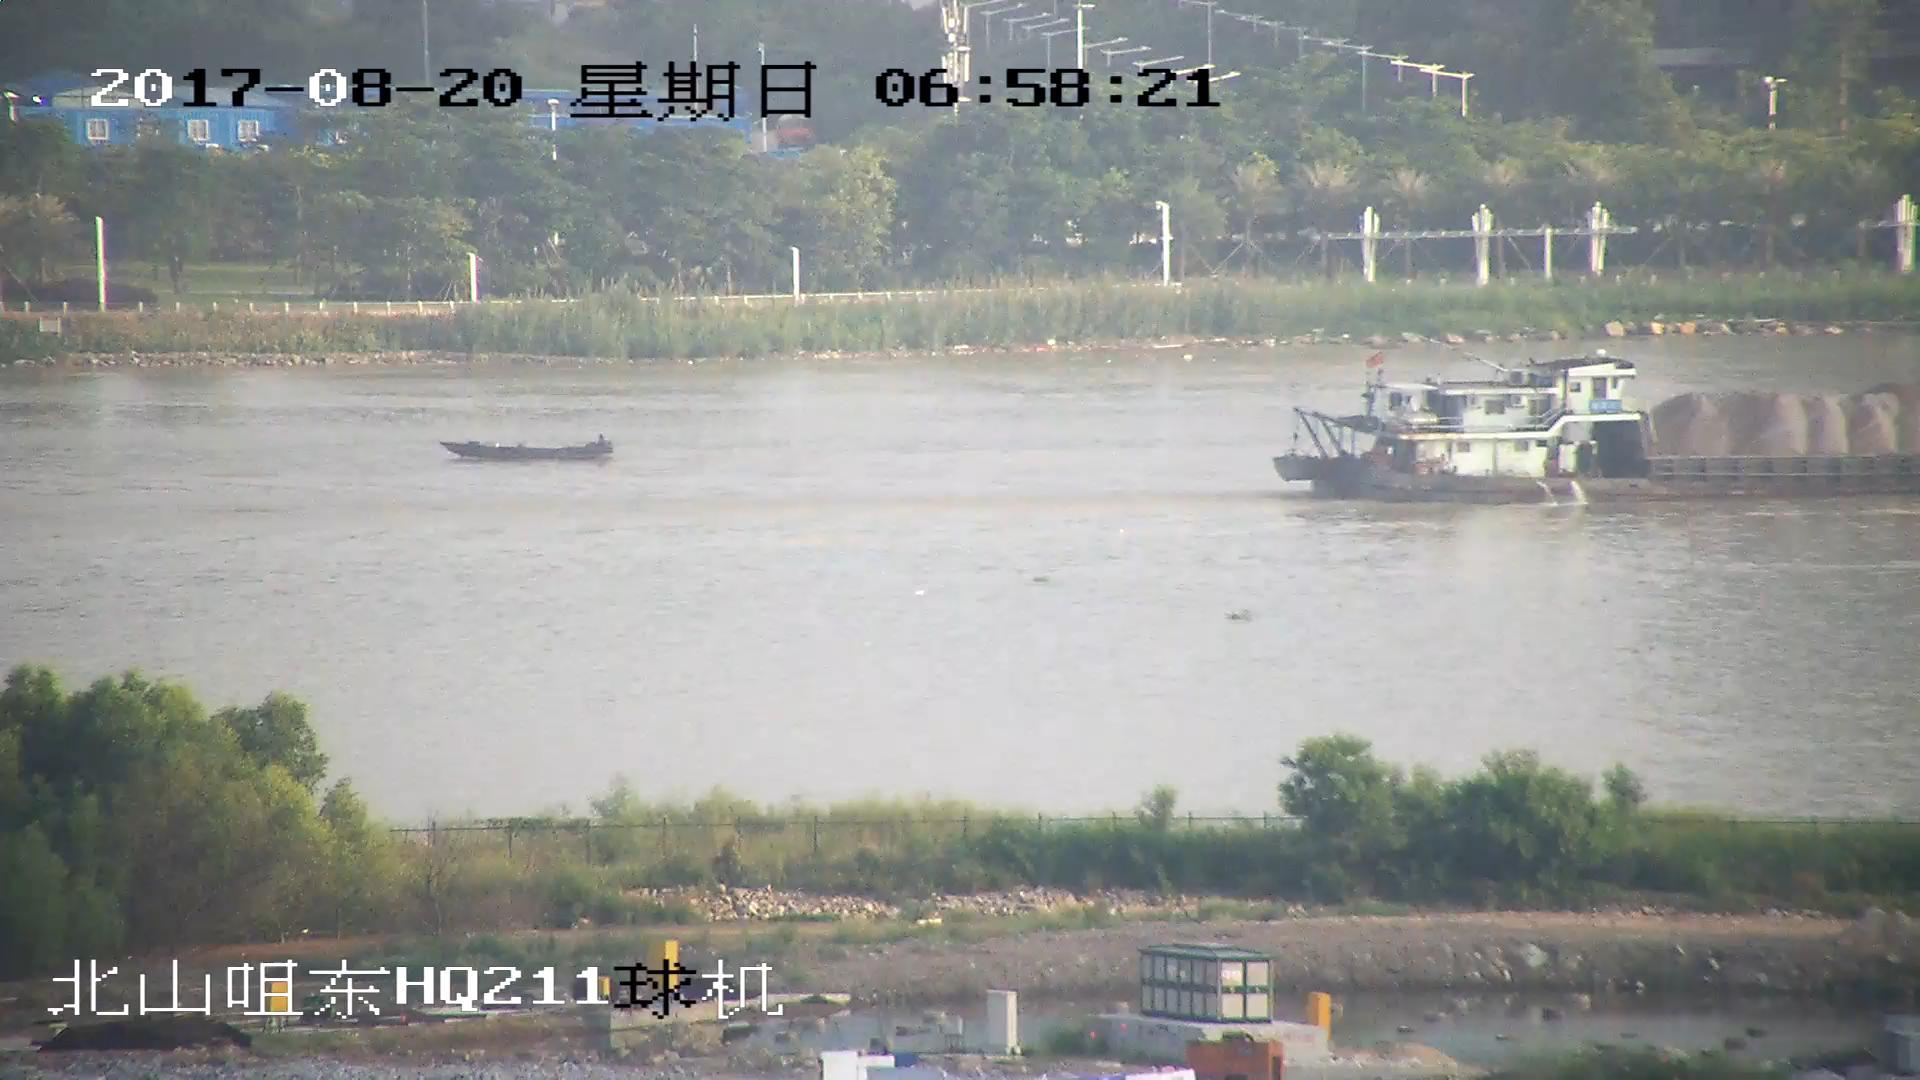Ship: (1275, 342, 1920, 509), (442, 435, 622, 465)
